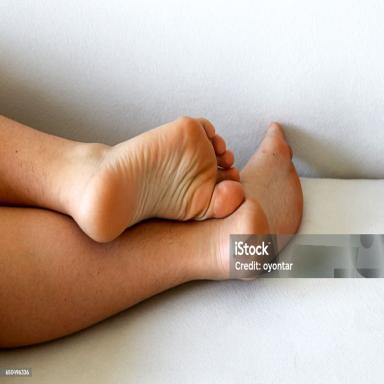normal skin: (0, 115, 303, 346)
